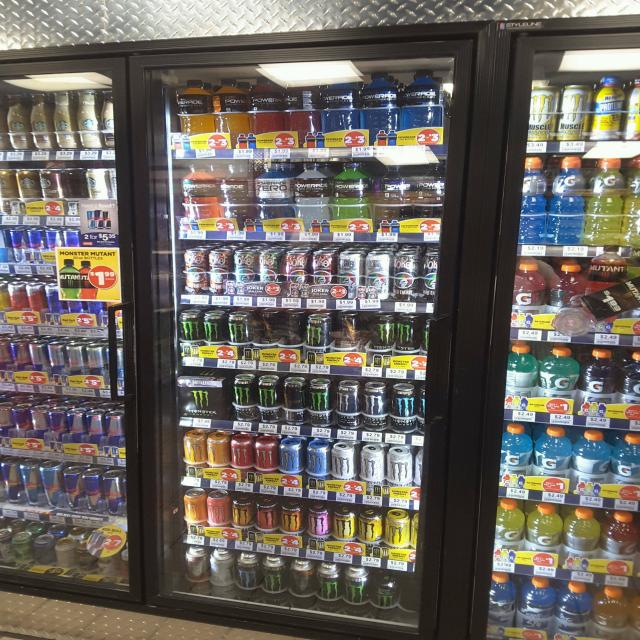unorganised: (282, 70, 317, 146), (367, 312, 417, 362), (254, 311, 301, 364), (332, 312, 358, 367), (290, 558, 318, 607), (281, 379, 306, 425)
